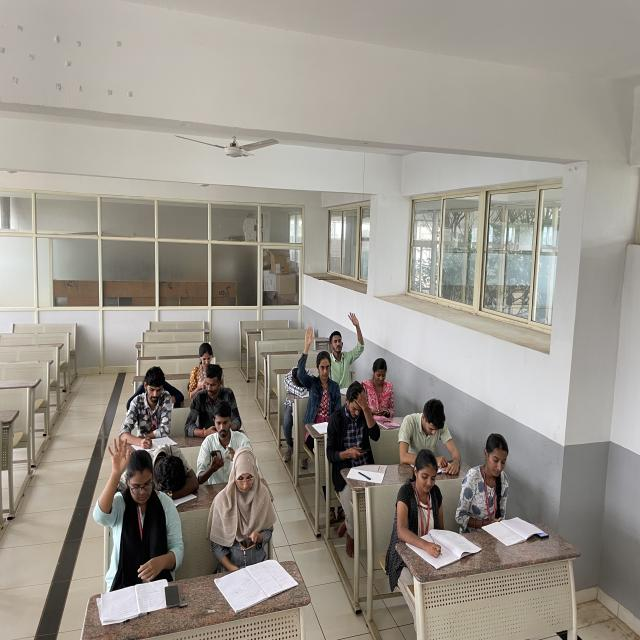Hand Rising: (96, 436, 176, 588), (298, 324, 341, 412), (329, 310, 365, 376)
Reading: (459, 431, 517, 538), (399, 398, 460, 472)
Sleeping: (145, 444, 202, 496), (281, 364, 315, 411)
Using Phone: (206, 450, 277, 567), (326, 382, 381, 469), (196, 402, 246, 488), (187, 364, 242, 436), (366, 357, 398, 419), (188, 341, 216, 398)
Writing: (392, 449, 453, 564), (123, 365, 178, 448)
